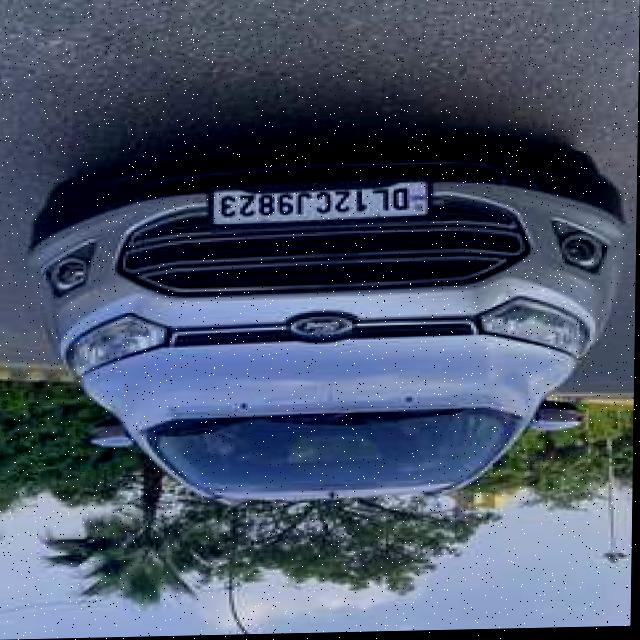plate: (208, 184, 432, 226)
